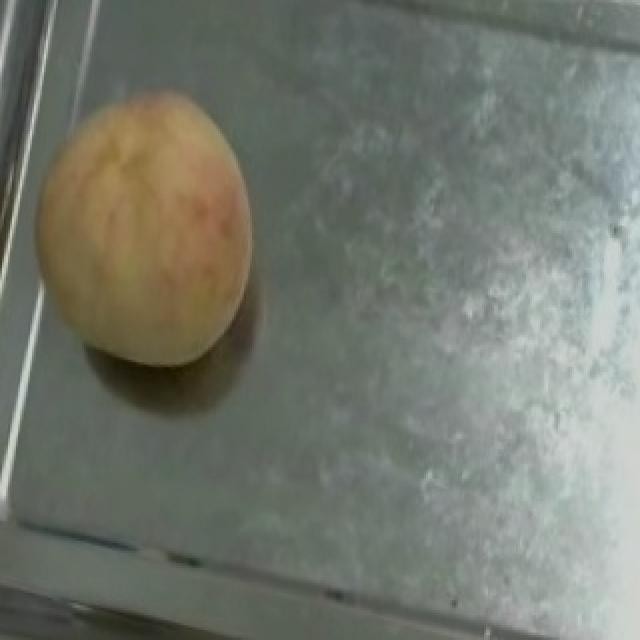Fruit: (0, 59, 284, 397)
